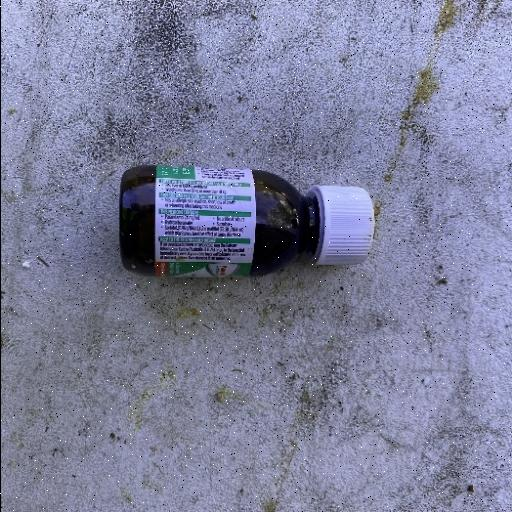Plastic: (116, 162, 376, 280)
